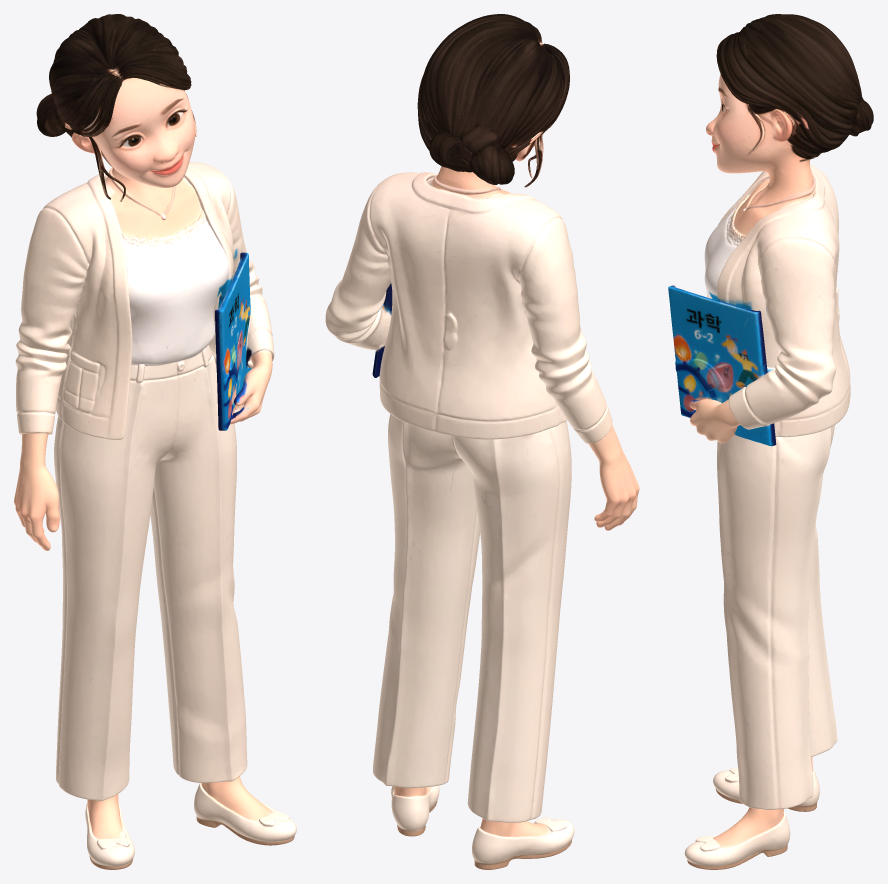
Rendered from 과학선생님.glb.
The picture shows the model from 3 angles, left to right: view 1: azimuth 30°, elevation 25°; view 2: azimuth 150°, elevation 25°; view 3: azimuth 270°, elevation 25°; orthographic projection. The views are drawn at different scales.
Bounding box in the file's own units: 0.6498 × 1.9 × 0.4481.
1 material, 1 textured.
